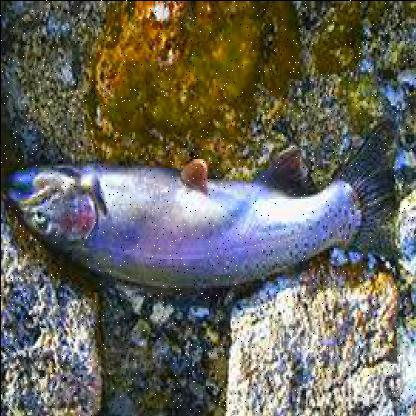fish: (7, 121, 404, 298)
